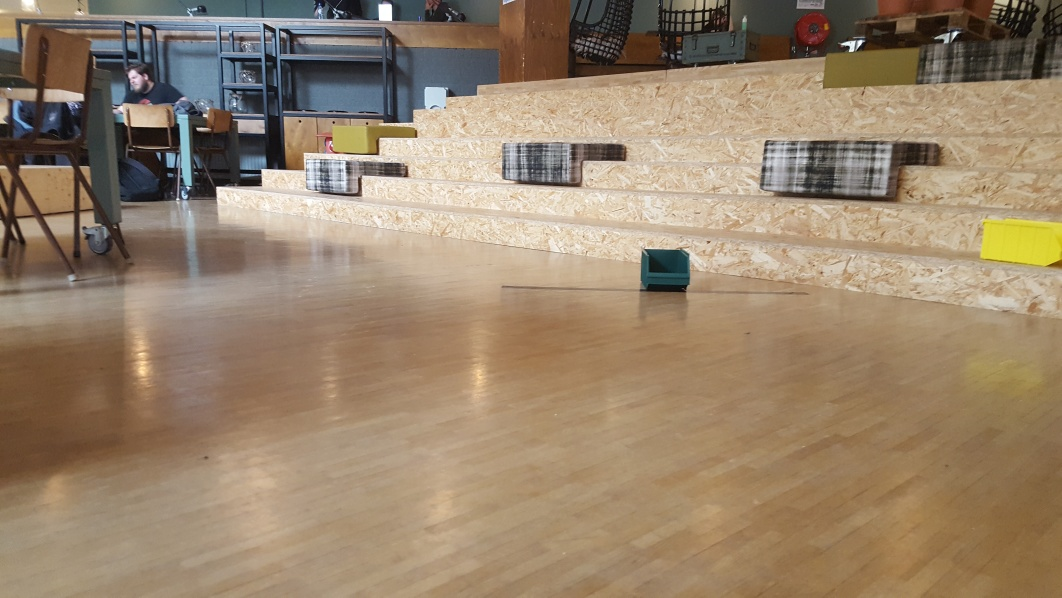tray: (970, 214, 1062, 265), (632, 245, 695, 291)
